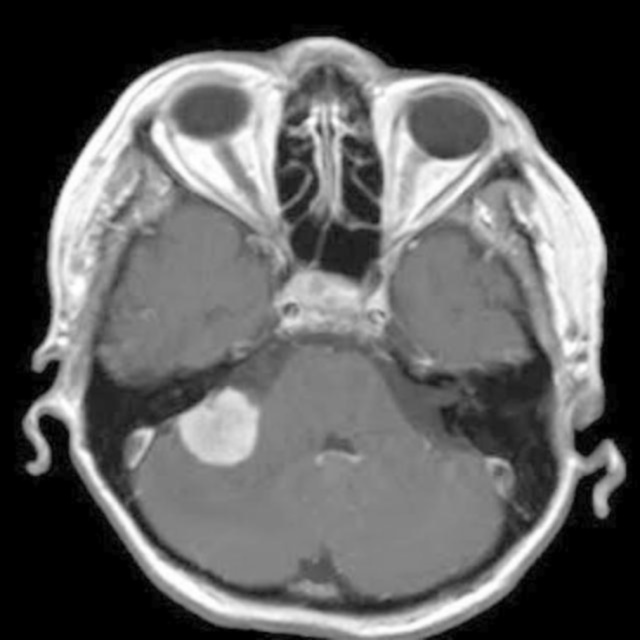meningioma tumor: (163, 384, 288, 482)
